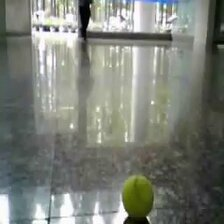tennis: (122, 175, 154, 216)
